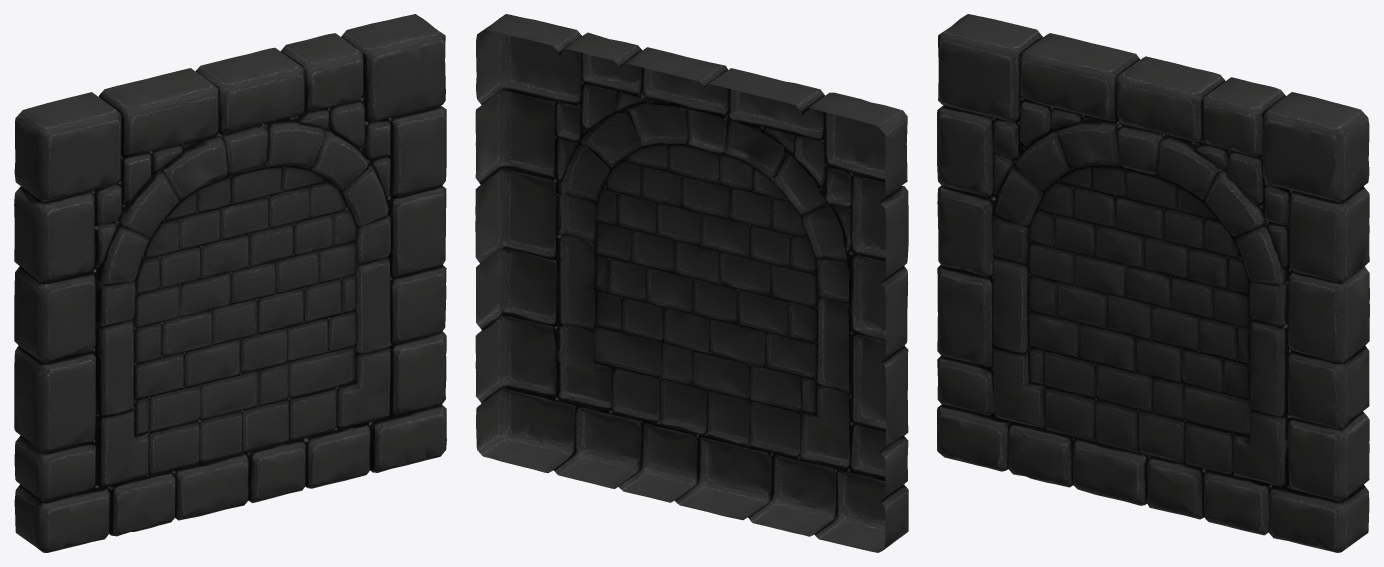
Rendered from Wall_Shrine_Generic.fbx.
3 renders of one model, left to right at view 1: azimuth 30°, elevation 25°; view 2: azimuth 150°, elevation 25°; view 3: azimuth 330°, elevation 25°, orthographic.
Parts seen in each view (by area): view 1: Walls_Shrine_Generic; view 2: Walls_Shrine_Generic; view 3: Walls_Shrine_Generic.
Boxes of the visible parts, x1=… form: Walls_Shrine_Generic: x1=14, y1=14, x2=446, y2=552; Walls_Shrine_Generic: x1=475, y1=14, x2=908, y2=552; Walls_Shrine_Generic: x1=937, y1=14, x2=1369, y2=552.
Size of the model in its own units: 304 by 303 by 37.96.
